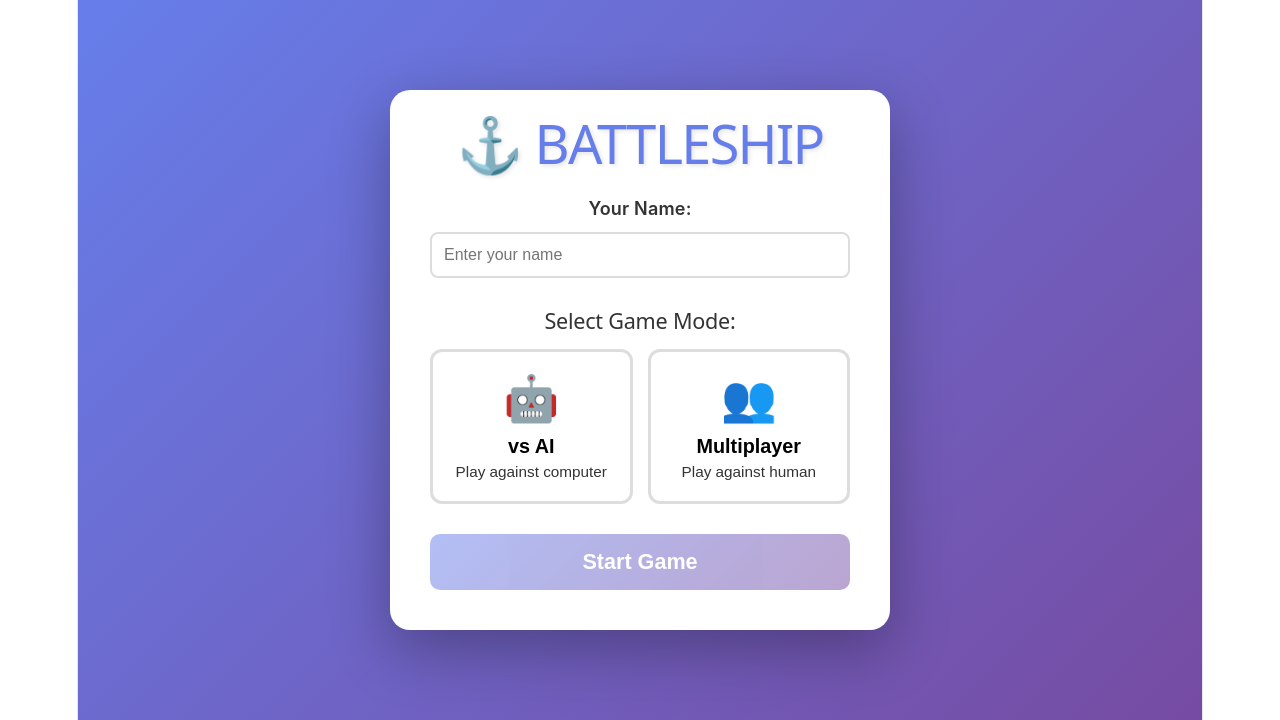
Test: MainMenu Component › allows selecting Multiplayer mode
The image size is (1280, 720).
Click the button "👥 Multiplayer Play against human".
click(749, 426)  # box [648,349,850,504]
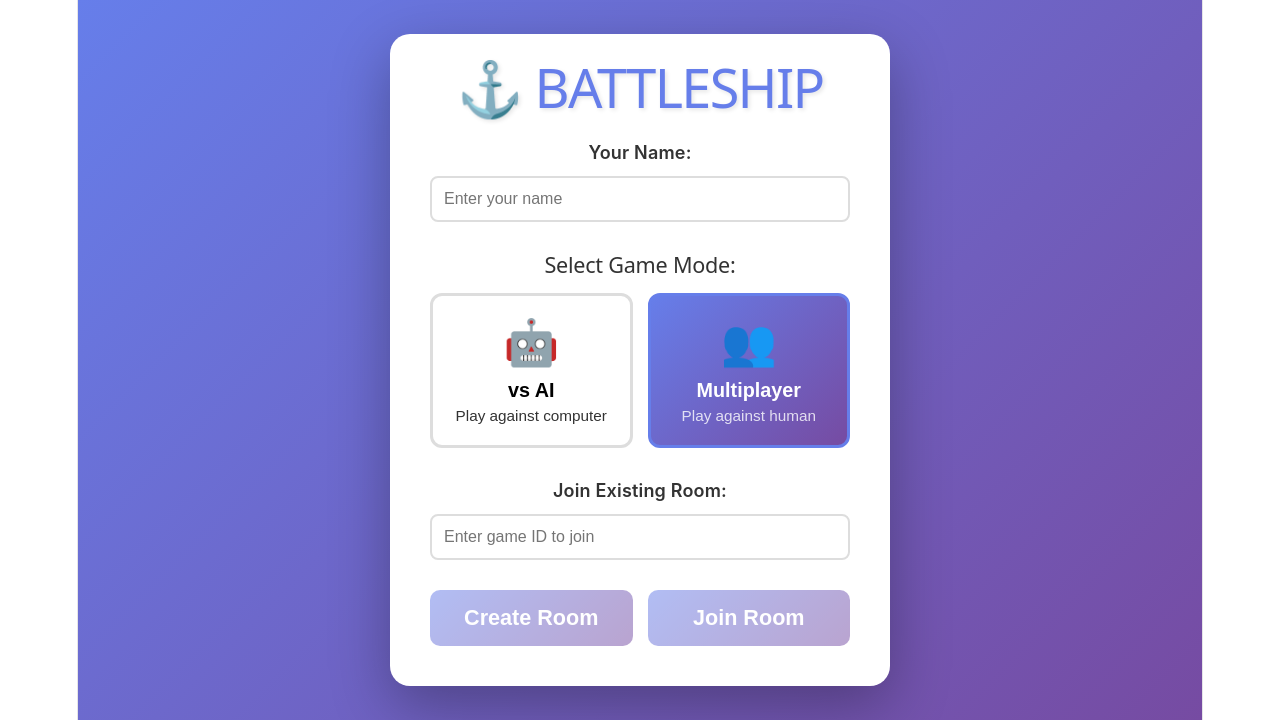
Expected: the field with placeholder "Enter game ID to join" is shown, [430,514,850,560]
